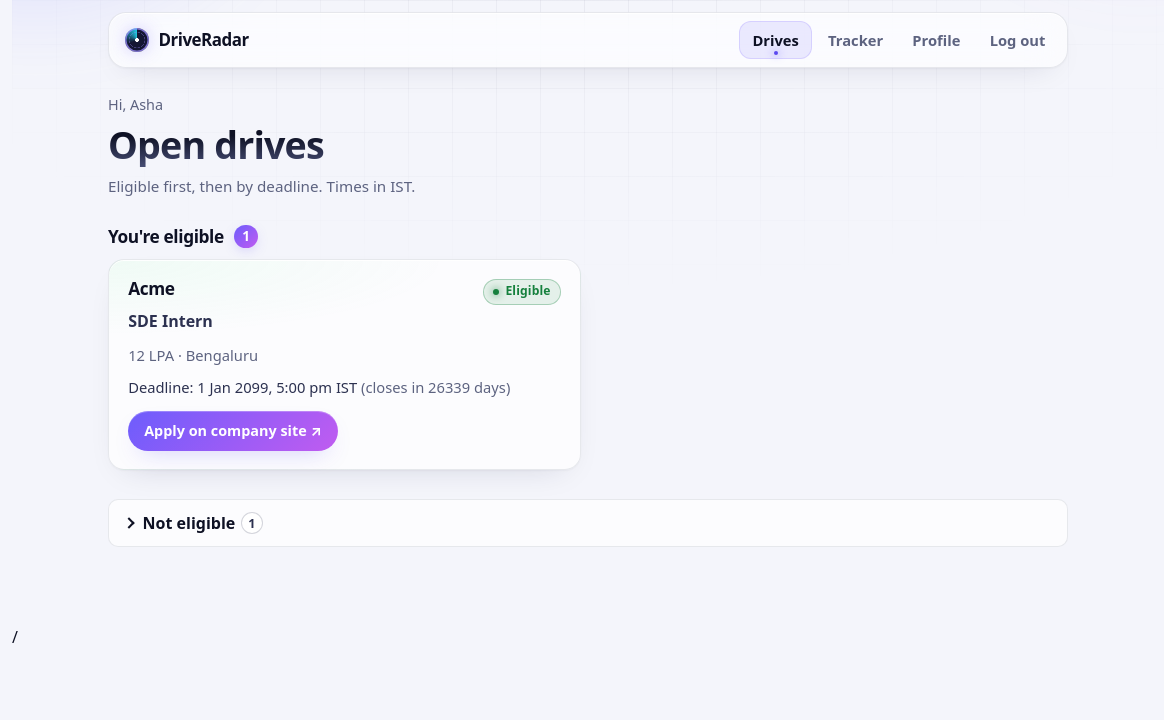
profile › pre-fills an existing profile and refreshes the feed after saving
Expected: the link "Acme" is shown, x1=128 y1=277 x2=175 y2=300
Step 1. Click the link "Profile" → (936, 40), box x1=912 y1=30 x2=960 y2=50
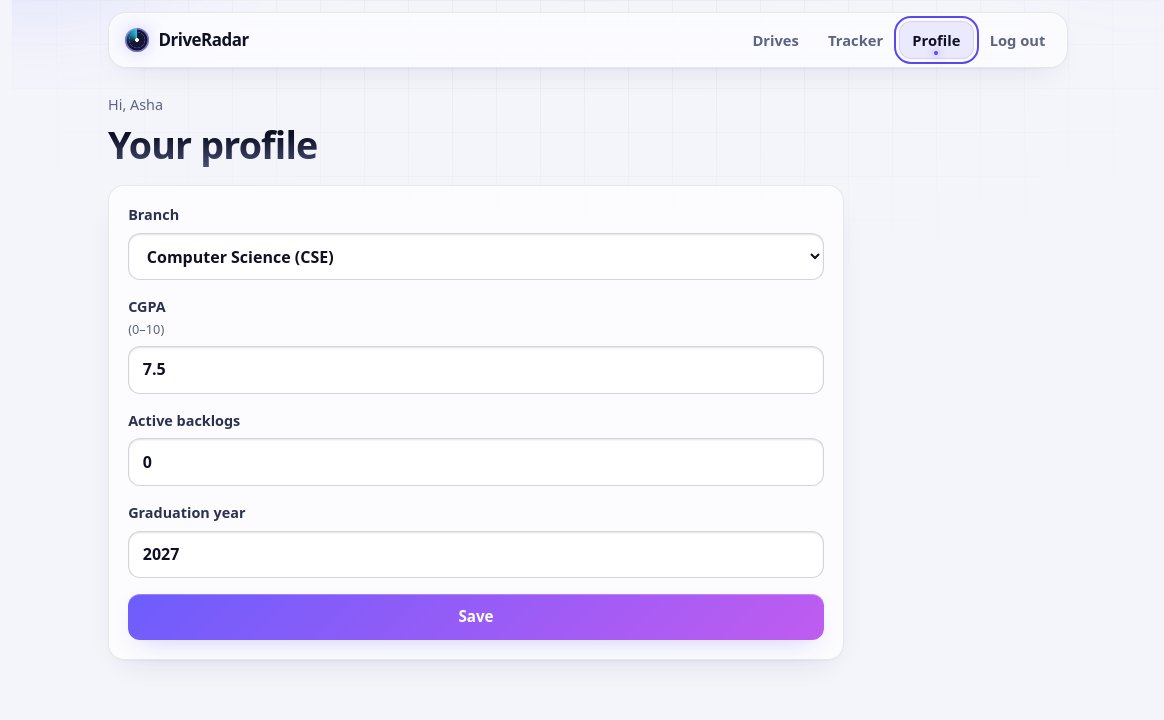
Result: the number field labelled "CGPA (0–10)" holds "7.5"
Result: the dropdown labelled "Branch" shows "Computer Science (CSE)" at x1=128 y1=233 x2=824 y2=280
Step 2. Replace the text in the number field labelled "CGPA (0–10)" with "8.2" → (476, 370), box x1=128 y1=346 x2=824 y2=394
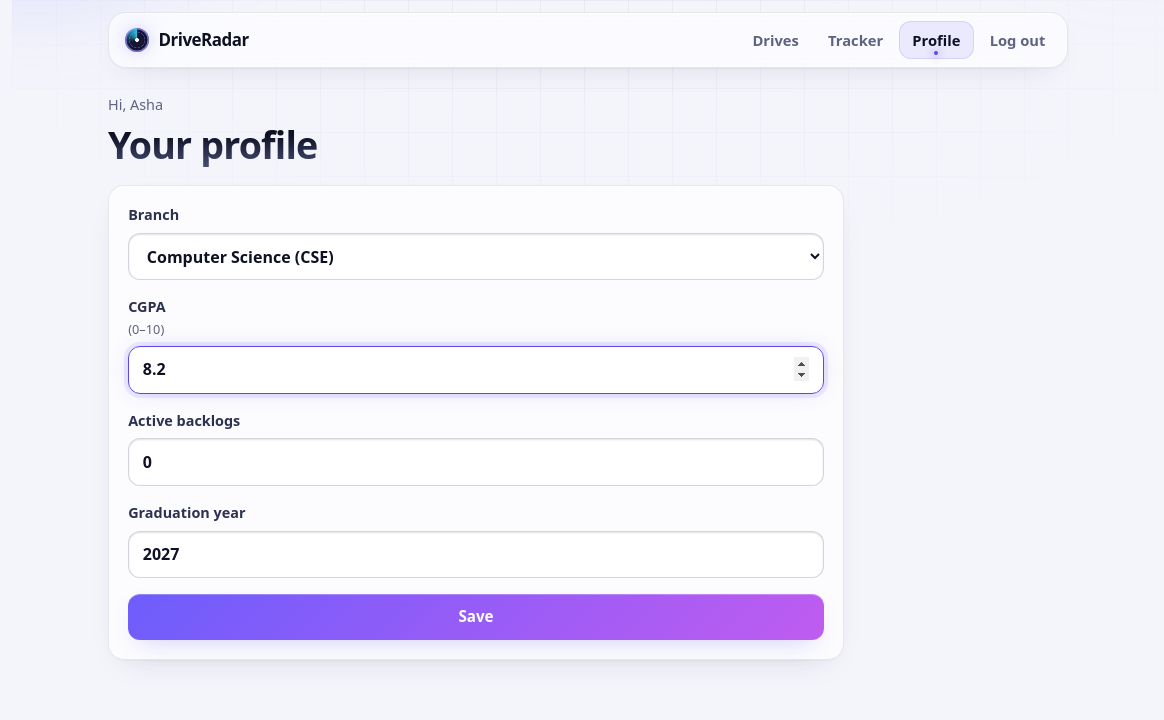
Step 3. Click the button "Save" → (476, 617), box x1=128 y1=594 x2=824 y2=640
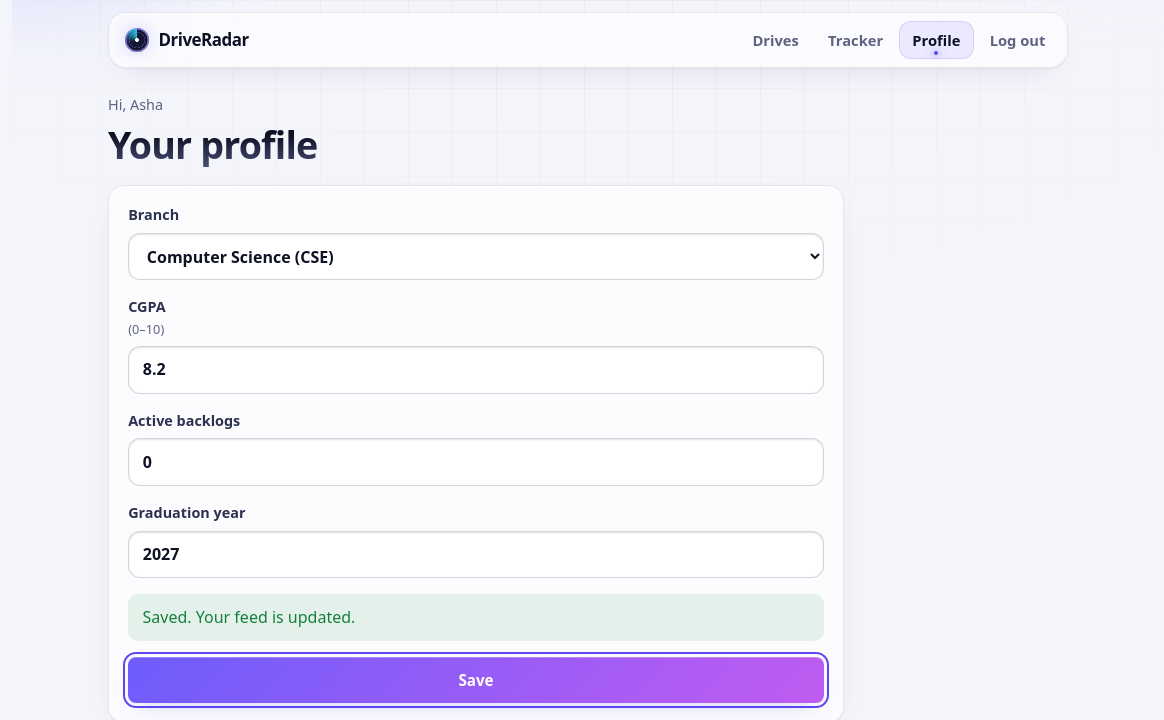
Result: the message shows "Saved" at x1=143 y1=606 x2=355 y2=628
